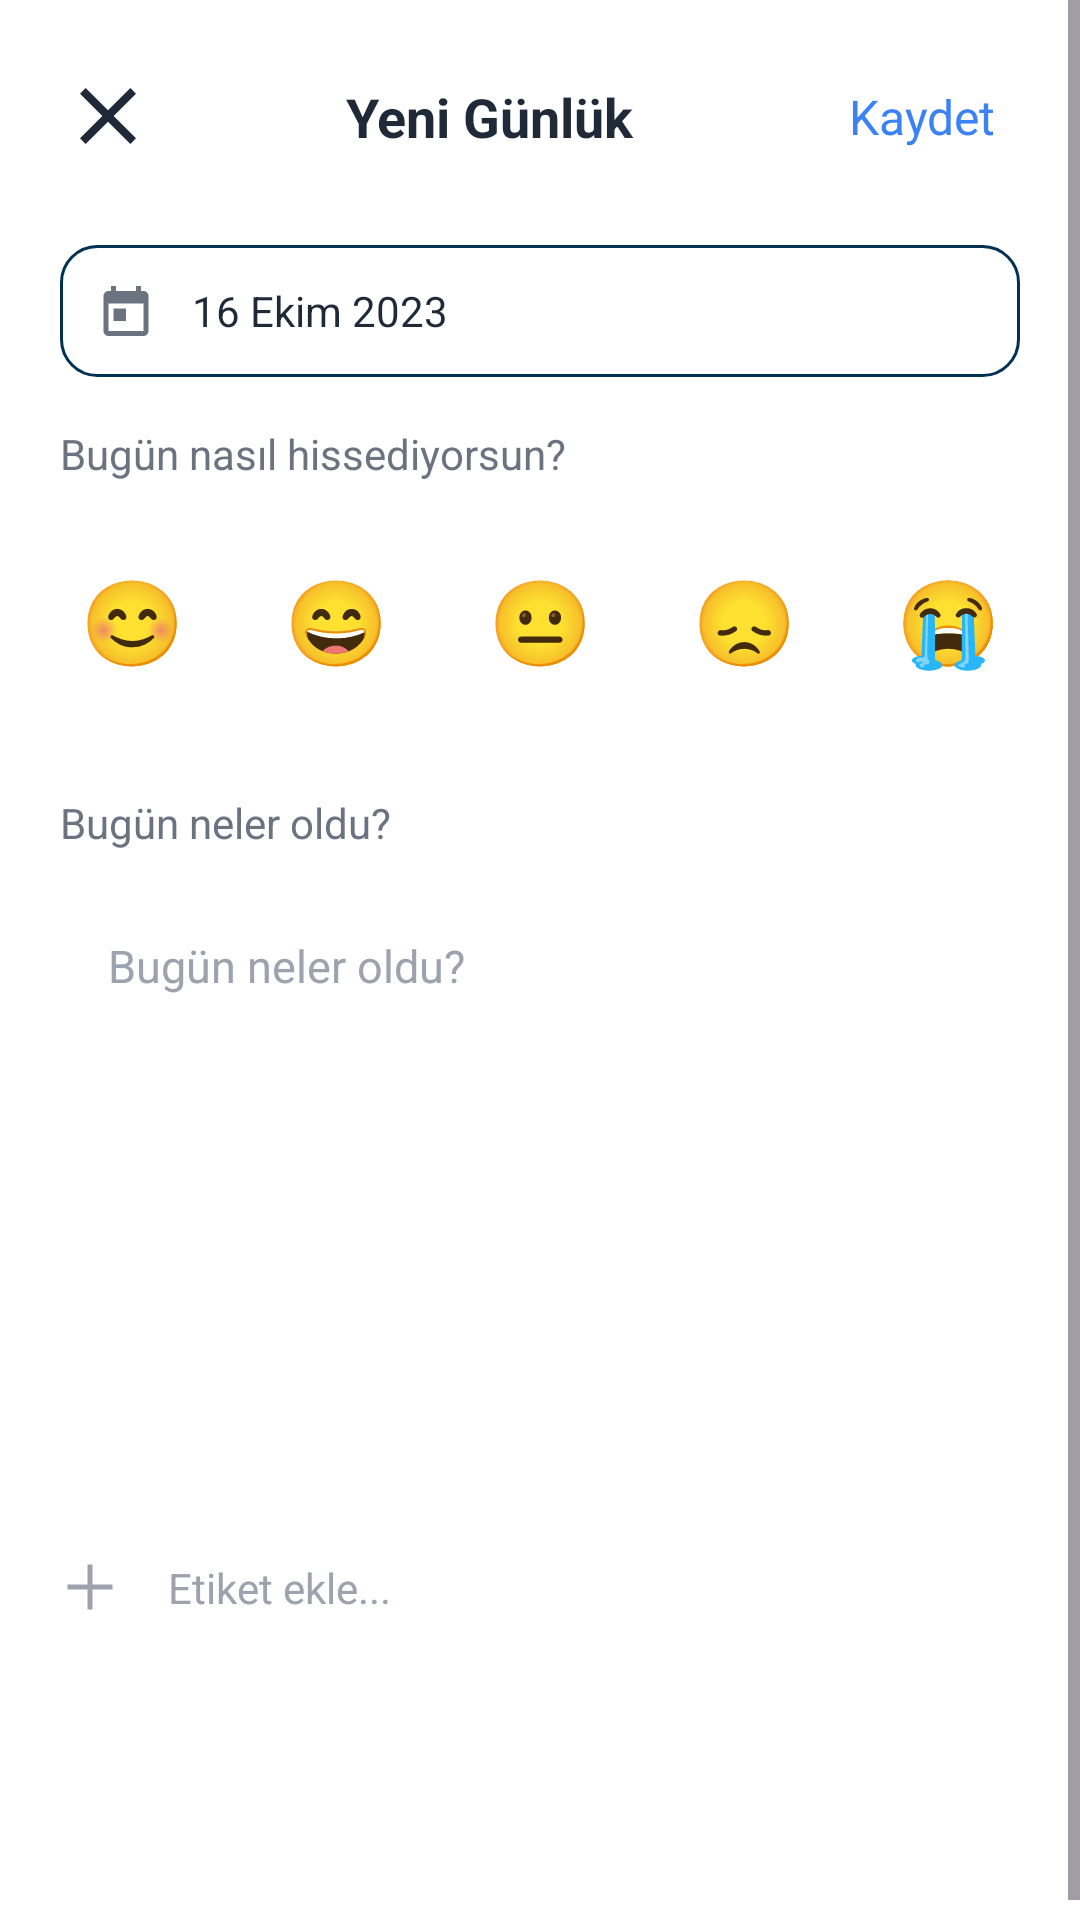

Screen size 1080 x 1920. Icon name, then its box in pixels as [x1, y1, x2, y2]:
Kapat: [80, 88, 136, 144]
Takvim: [103, 286, 149, 336]
